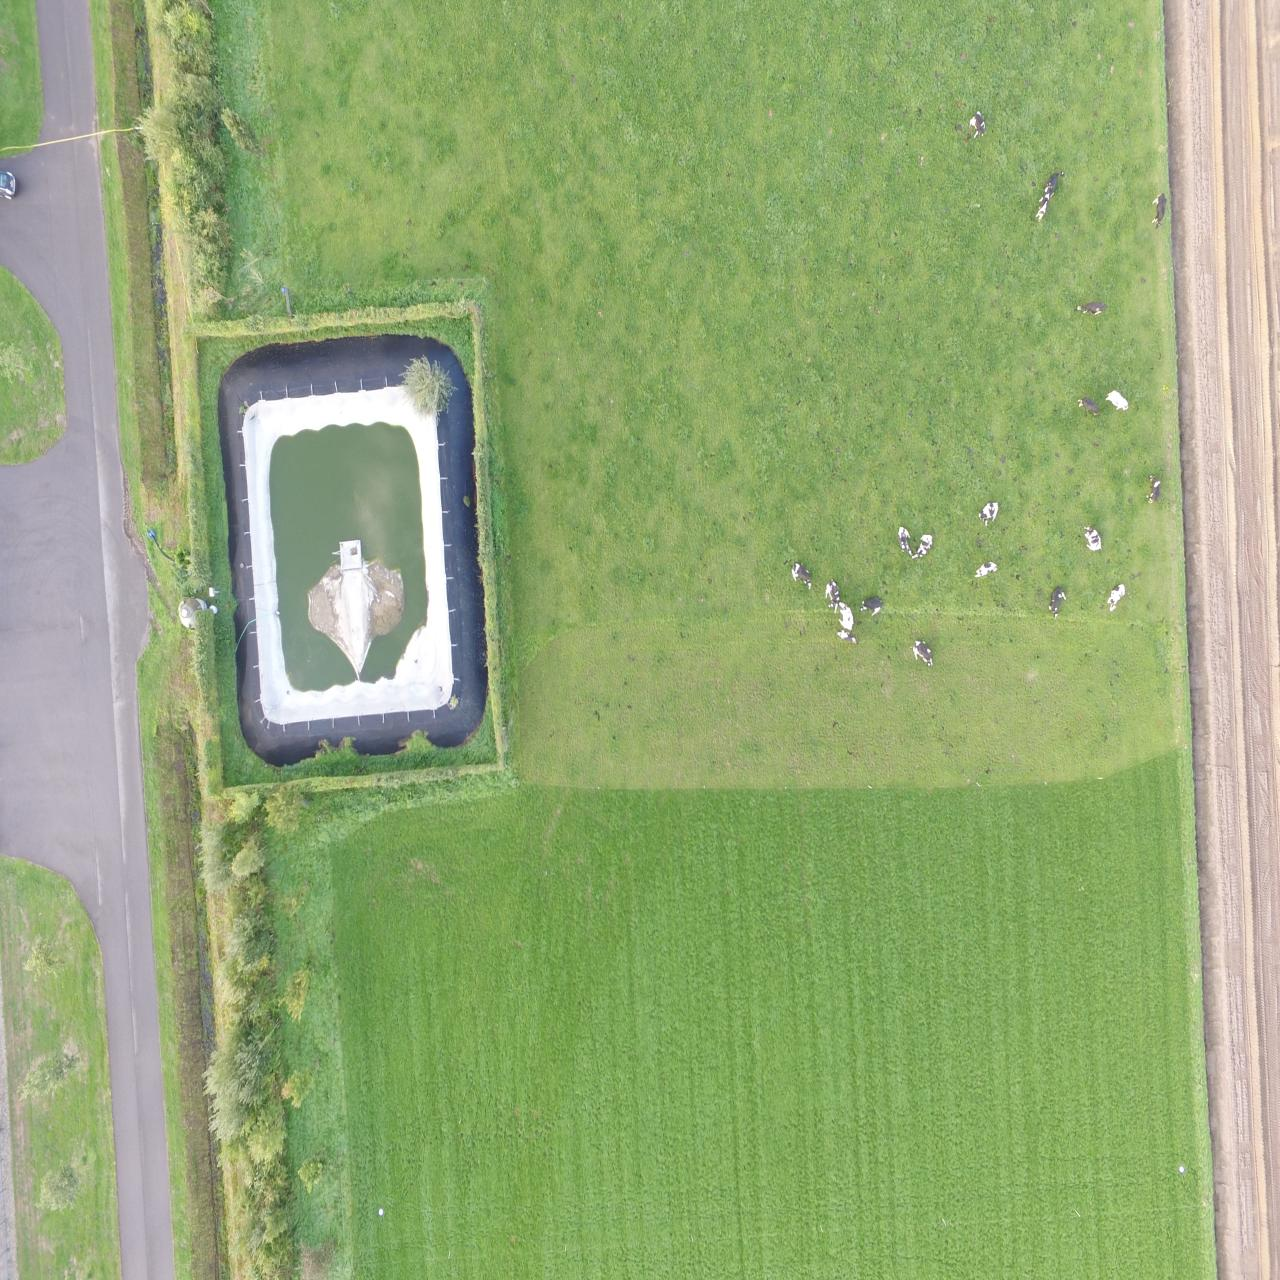cow: (907, 637, 935, 668), (1048, 583, 1068, 621), (1074, 394, 1101, 419), (1152, 188, 1168, 230), (965, 111, 991, 136), (786, 562, 813, 586), (896, 523, 913, 558), (1105, 387, 1130, 410), (976, 500, 999, 525), (1032, 196, 1052, 223), (1106, 582, 1124, 612), (824, 576, 839, 612), (1045, 169, 1065, 195), (1144, 473, 1160, 505), (1076, 300, 1106, 316), (1082, 524, 1100, 550), (914, 533, 932, 559), (840, 600, 854, 630), (836, 627, 858, 646), (973, 561, 996, 579), (860, 596, 881, 614)
